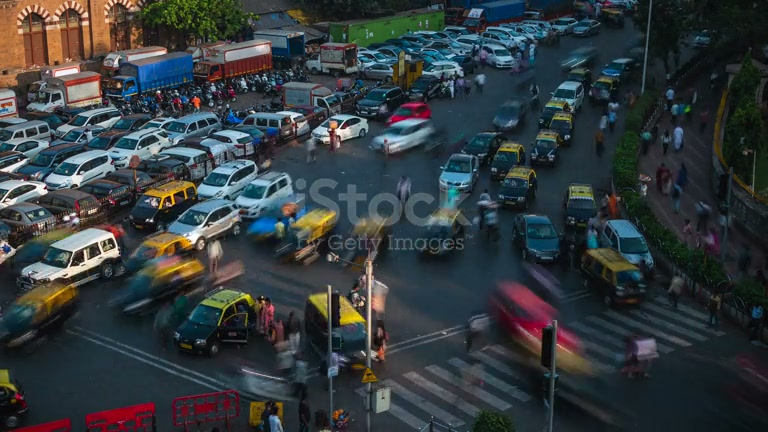bus: (103, 49, 194, 108), (191, 40, 273, 85)
car: (17, 226, 125, 290), (170, 287, 258, 357), (487, 279, 560, 363), (0, 280, 79, 351), (160, 197, 244, 247), (579, 247, 647, 308), (128, 178, 199, 232), (602, 218, 656, 280), (43, 149, 115, 192), (230, 170, 295, 216), (38, 187, 107, 228), (195, 158, 258, 201), (368, 118, 436, 157), (511, 214, 563, 264), (497, 165, 538, 209), (0, 369, 30, 428), (438, 152, 480, 194), (355, 86, 406, 119), (460, 131, 504, 167), (319, 113, 369, 144), (488, 141, 526, 181), (528, 138, 560, 167)
pedestrian: (668, 274, 682, 312), (707, 293, 721, 327)
truck: (579, 248, 647, 308)
